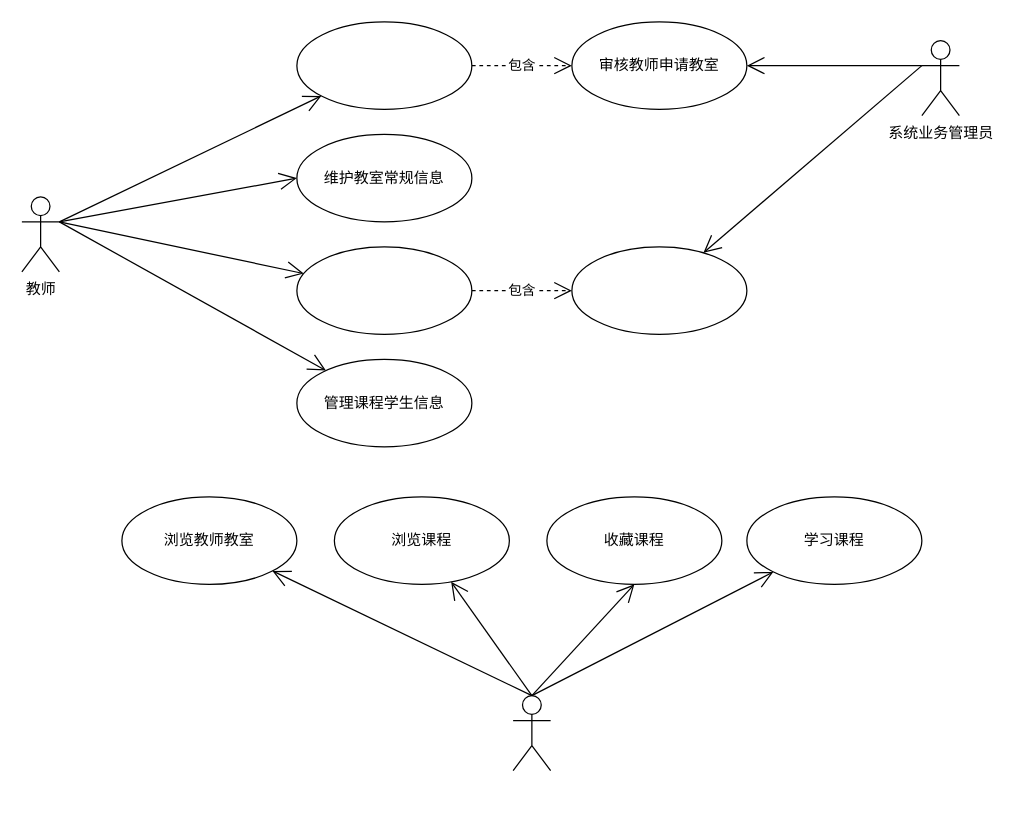
Some shapes in this 1015 by 819 pixel diagram are drawn without their labels. The shapes that lost their labels are listed below. From the top down, each one's centre as x and y in pixels, then its label:
point (384, 65): 申请教室
point (384, 290): 管理教学课程
point (659, 290): 审核教学课程
point (531, 732): 学生
